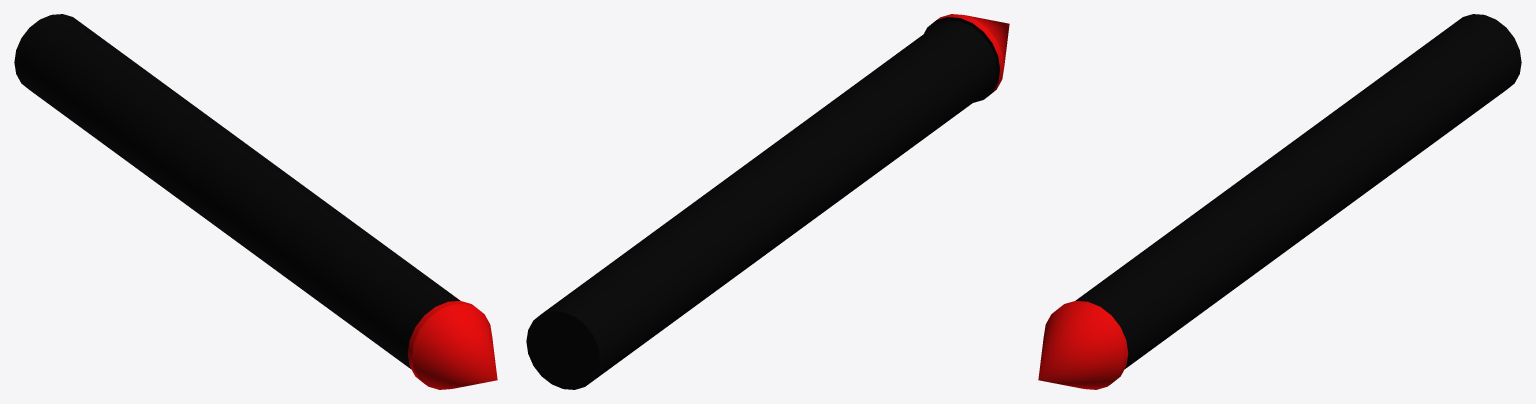
File: rocket.fbx
The picture shows the model from 3 angles, left to right: view 1: azimuth 30°, elevation 25°; view 2: azimuth 150°, elevation 25°; view 3: azimuth 330°, elevation 25°; orthographic projection.
Parts seen in each view (by area): view 1: pCylinder1; view 2: pCylinder1; view 3: pCylinder1.
Part boxes in pixels (bbox=[...]): pCylinder1: bbox=[14, 14, 497, 389]; pCylinder1: bbox=[526, 14, 1009, 389]; pCylinder1: bbox=[1038, 14, 1521, 389].
Size of the model in its own units: 2.18 by 2.18 by 20.95.
